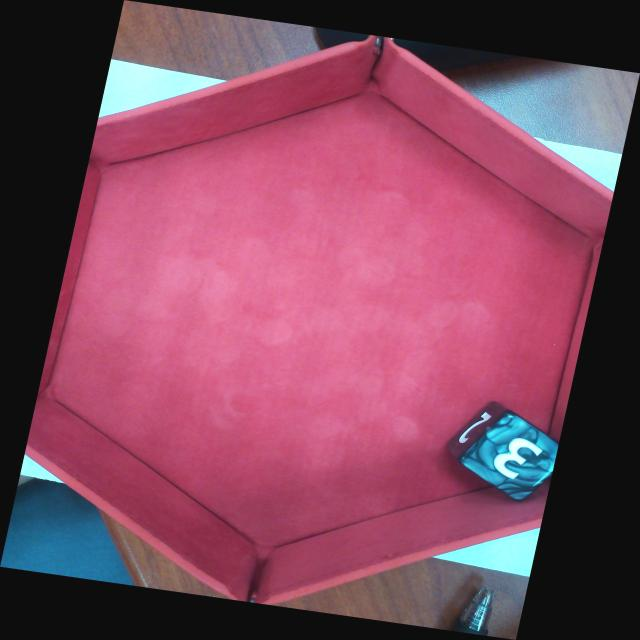dice: (462, 413, 560, 500)
